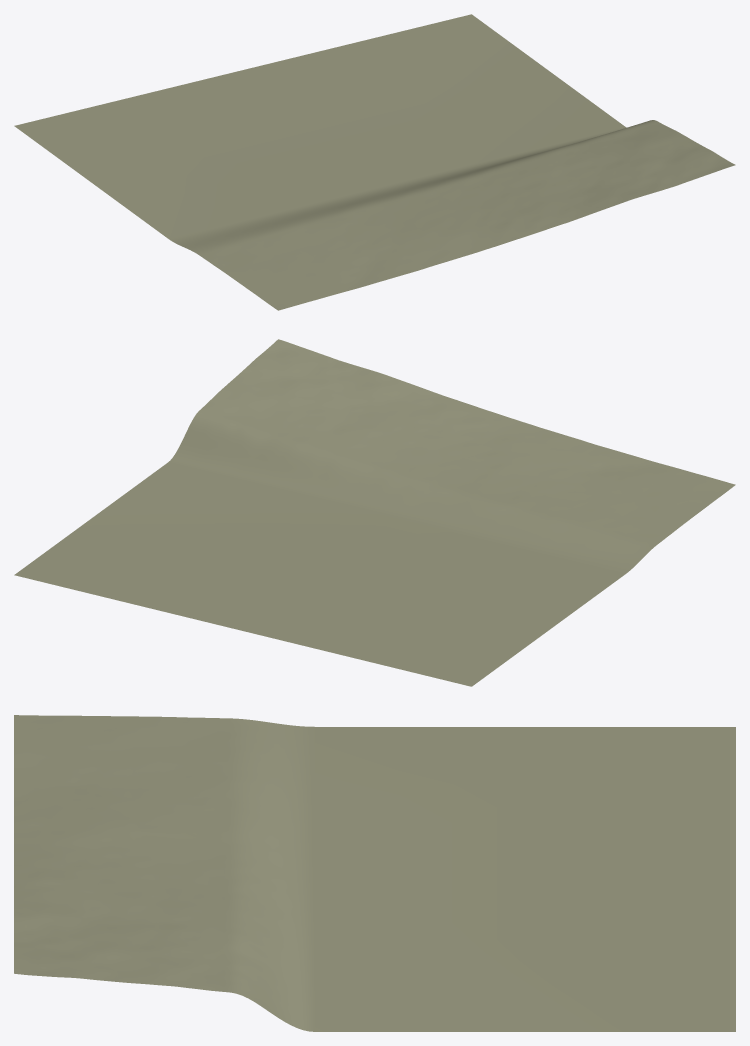
File: SM_VB_CityTerrain_8_4.fbx
The picture shows the model from 3 angles, top to bottom: view 1: azimuth 30°, elevation 25°; view 2: azimuth 150°, elevation 25°; view 3: azimuth 270°, elevation 25°; orthographic projection. The views are drawn at different scales.
Parts seen in each view (by area): view 1: SM_VB_CityTerrain_8_4; view 2: SM_VB_CityTerrain_8_4; view 3: SM_VB_CityTerrain_8_4.
Part boxes in pixels (x1,y1,x2,y2): SM_VB_CityTerrain_8_4: (14, 14, 735, 310); SM_VB_CityTerrain_8_4: (14, 339, 735, 686); SM_VB_CityTerrain_8_4: (14, 715, 735, 1031).
Size of the model in its own units: 600 by 53.38 by 600.
